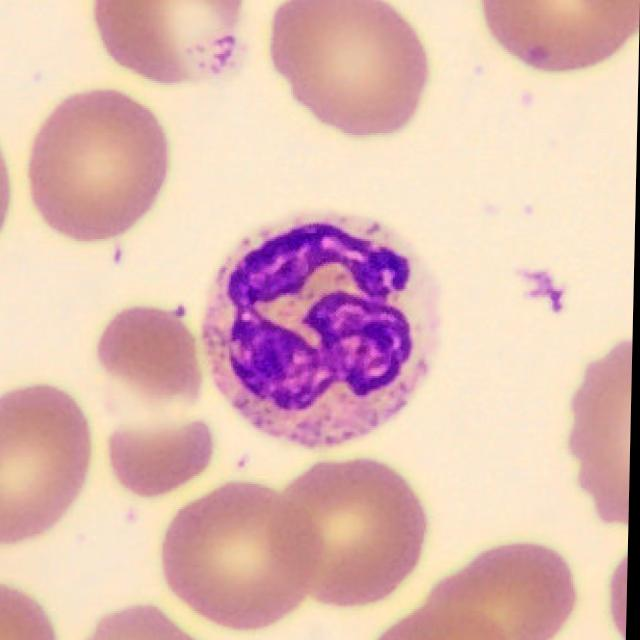Neutrofilo segmentado: (202, 210, 438, 451)
